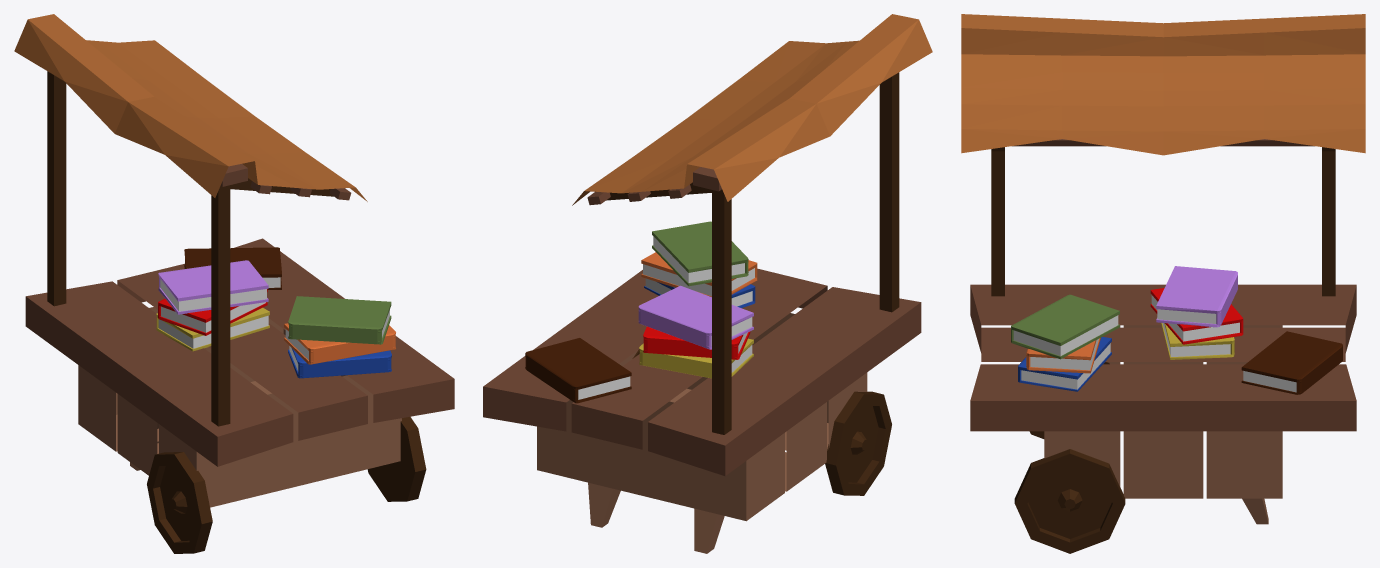
Rendered from BookStand6.fbx.
3 views of the same model, side by side, from view 1: azimuth 30°, elevation 25°; view 2: azimuth 150°, elevation 25°; view 3: azimuth 270°, elevation 25° (orthographic). The views are drawn at different scales.
Parts seen in each view (by area): view 1: BookStand; view 2: BookStand; view 3: BookStand.
Part boxes in pixels (x1,y1,x2,y2): BookStand: [14, 14, 454, 553]; BookStand: [483, 14, 932, 553]; BookStand: [961, 14, 1365, 553].
Bounding box in the file's own units: 930 × 1556 × 1327.
